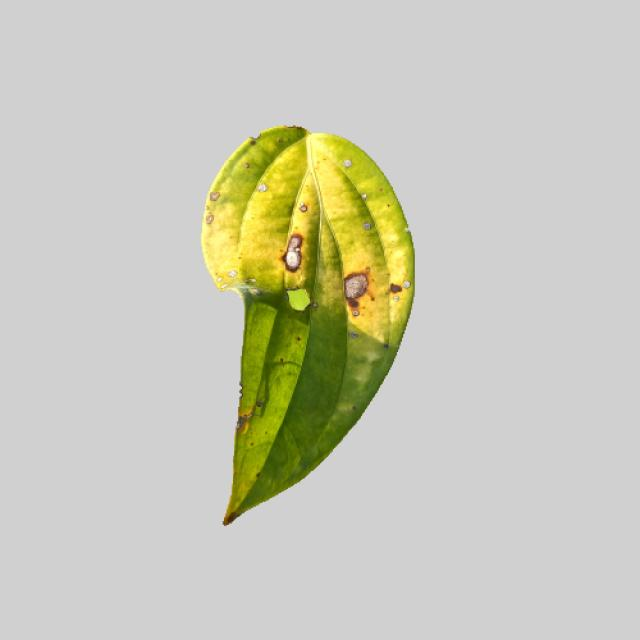leaf-blight: (178, 125, 421, 528)
